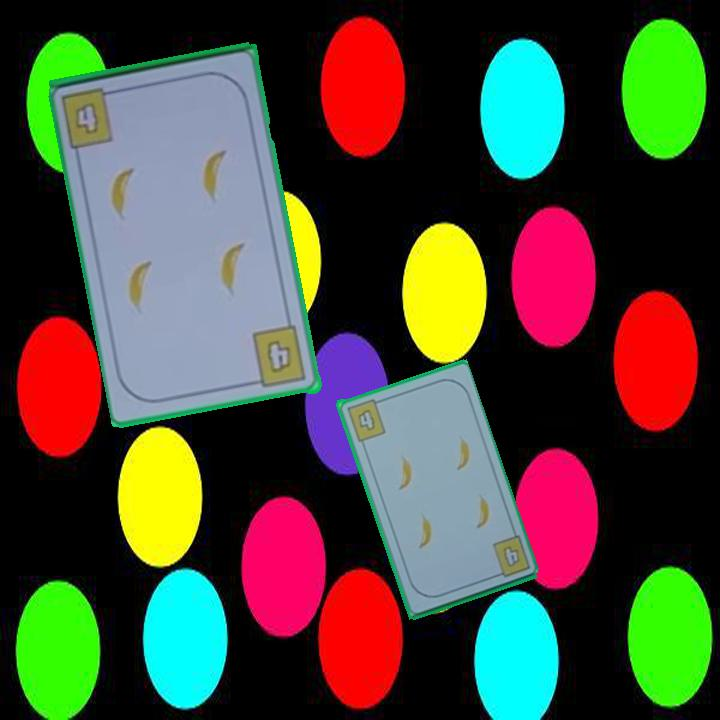4b: (247, 323, 310, 391), (343, 395, 388, 444), (489, 532, 533, 581), (71, 98, 103, 138)
